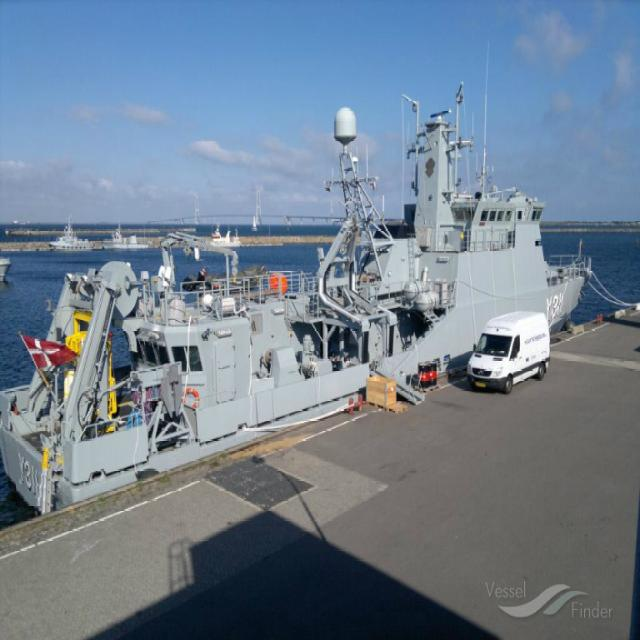OCR: (16, 446, 47, 506), (544, 293, 568, 320)
